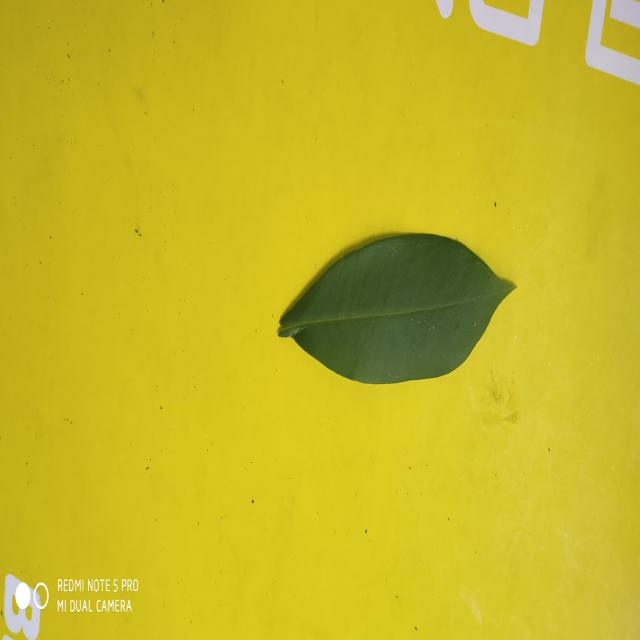nerale: (279, 233, 515, 384)
